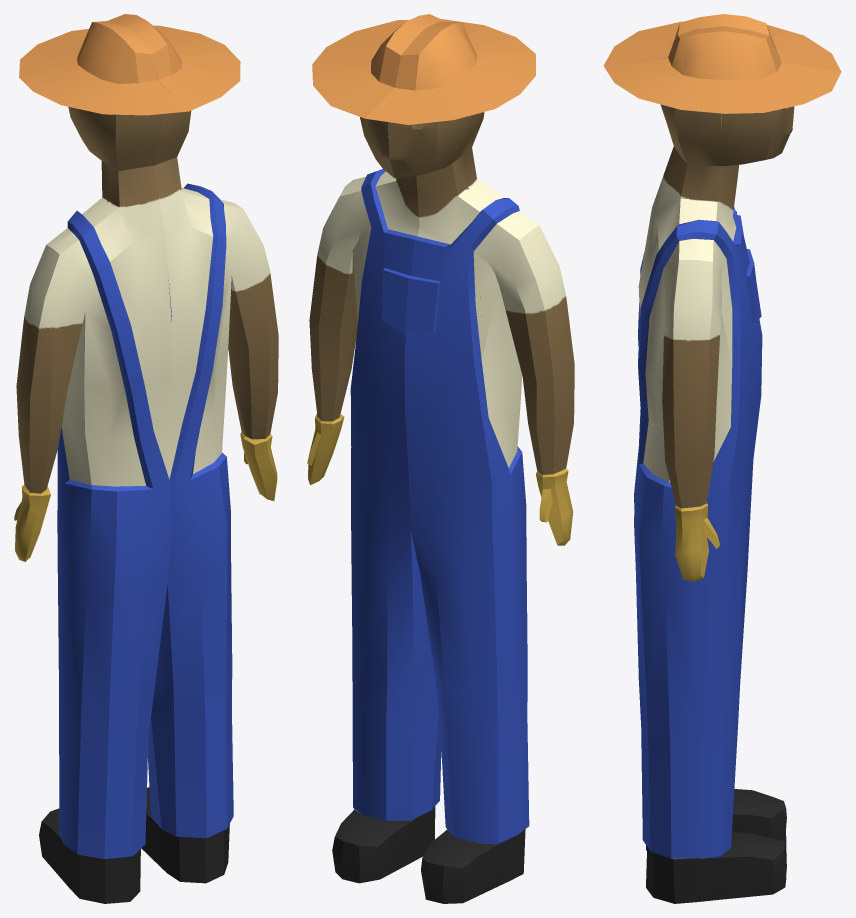
Rendered from Character Unity Export2.fbx.
3 views of the same model, side by side, from view 1: azimuth 30°, elevation 25°; view 2: azimuth 150°, elevation 25°; view 3: azimuth 270°, elevation 25° (orthographic).
Visible parts, largest first — view 1: low poly; view 2: low poly; view 3: low poly.
Part boxes in pixels (box(x1,y1,x2,y2)): low poly: box(14, 14, 278, 903); low poly: box(307, 14, 574, 903); low poly: box(603, 14, 841, 903).
Size of the model in its own units: 5.93 by 18.54 by 4.73.
